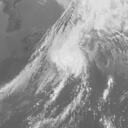cyclone: (47, 34, 88, 79)
